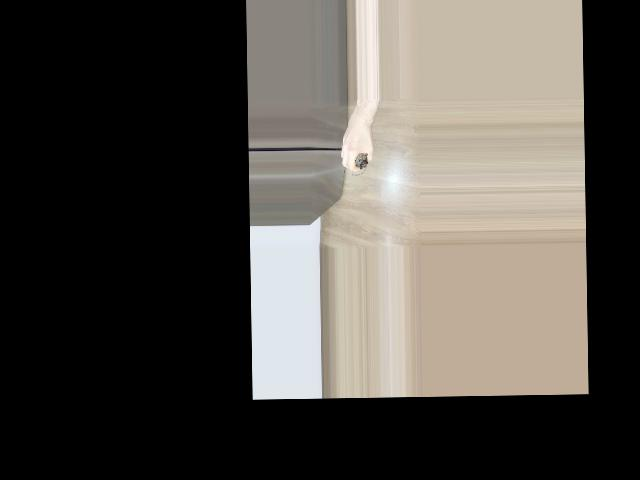beet: (351, 153, 368, 176)
